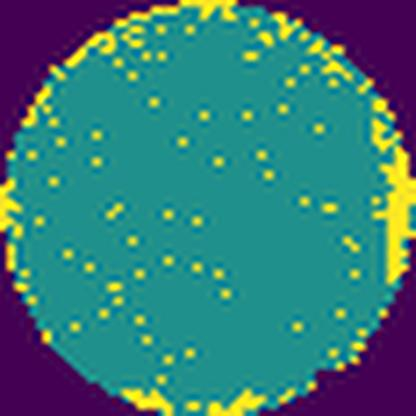Edge-Loc: (371, 93, 416, 282)
